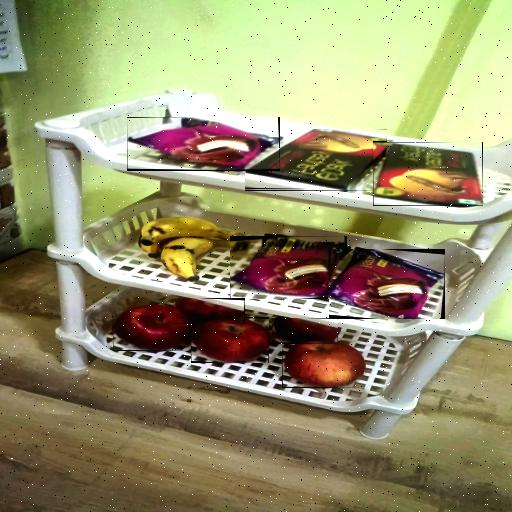Apple: (282, 340, 364, 388), (112, 305, 192, 351), (191, 317, 269, 363), (174, 298, 245, 324), (272, 318, 338, 344)
Choco Fills: (245, 130, 387, 192), (373, 142, 483, 206)
Choco Pie: (127, 117, 280, 171), (329, 249, 445, 319), (230, 236, 347, 299)
